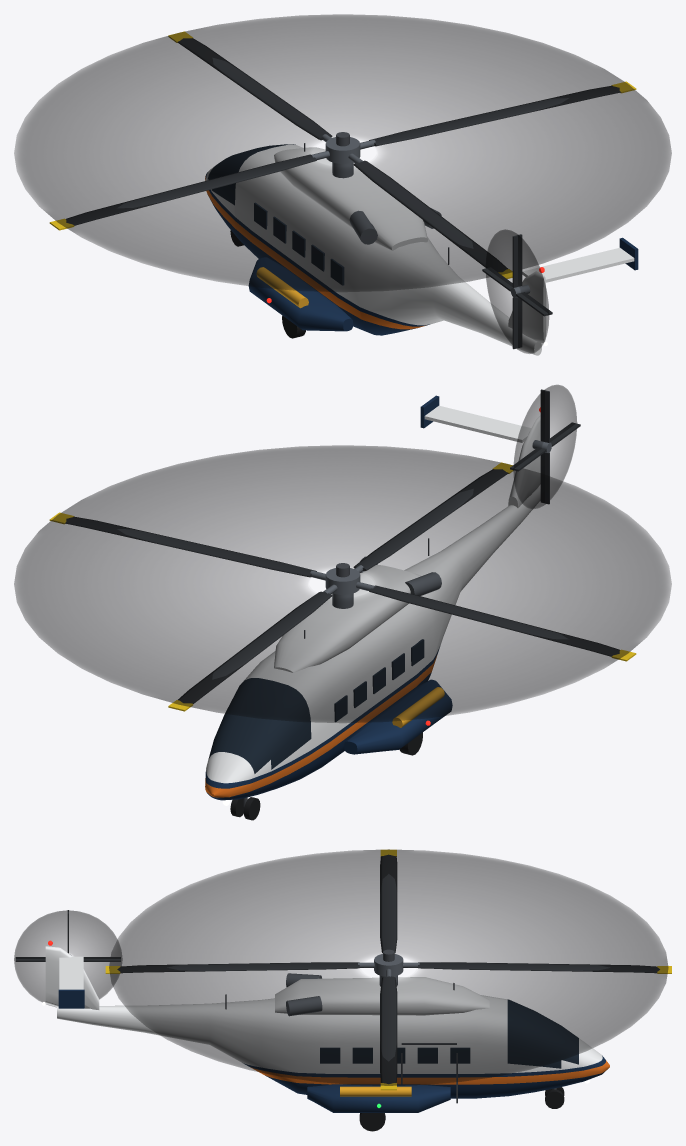
File: heli.glb
3 views of the same model, one above another, from view 1: azimuth 30°, elevation 25°; view 2: azimuth 150°, elevation 25°; view 3: azimuth 270°, elevation 25° (orthographic). The views are drawn at different scales.
Parts seen in each view (by area): view 1: rotor_disc, heli_body, main_rotor, heli_static, tail_disc, tail_rotor; view 2: rotor_disc, heli_body, main_rotor, heli_static, tail_disc, tail_rotor; view 3: rotor_disc, heli_body, heli_static, main_rotor, tail_disc, tail_rotor.
Part boxes in pixels (x1,y1,x2,y2): rotor_disc: [14, 14, 671, 291]; heli_body: [205, 144, 541, 355]; main_rotor: [49, 31, 636, 278]; heli_static: [230, 143, 638, 346]; tail_disc: [485, 229, 549, 353]; tail_rotor: [482, 234, 552, 349]; rotor_disc: [14, 445, 671, 722]; heli_body: [205, 487, 540, 800]; main_rotor: [49, 462, 636, 711]; heli_static: [222, 395, 540, 820]; tail_disc: [513, 385, 577, 508]; tail_rotor: [510, 389, 580, 504]; rotor_disc: [109, 849, 668, 1085]; heli_body: [57, 977, 609, 1098]; heli_static: [42, 940, 590, 1131]; main_rotor: [105, 849, 671, 1090]; tail_disc: [14, 910, 122, 1007]; tail_rotor: [15, 910, 120, 961].
Size of the model in its own units: 17.41 by 6.42 by 20.22.
Materials: 14 (1 with a texture image).
